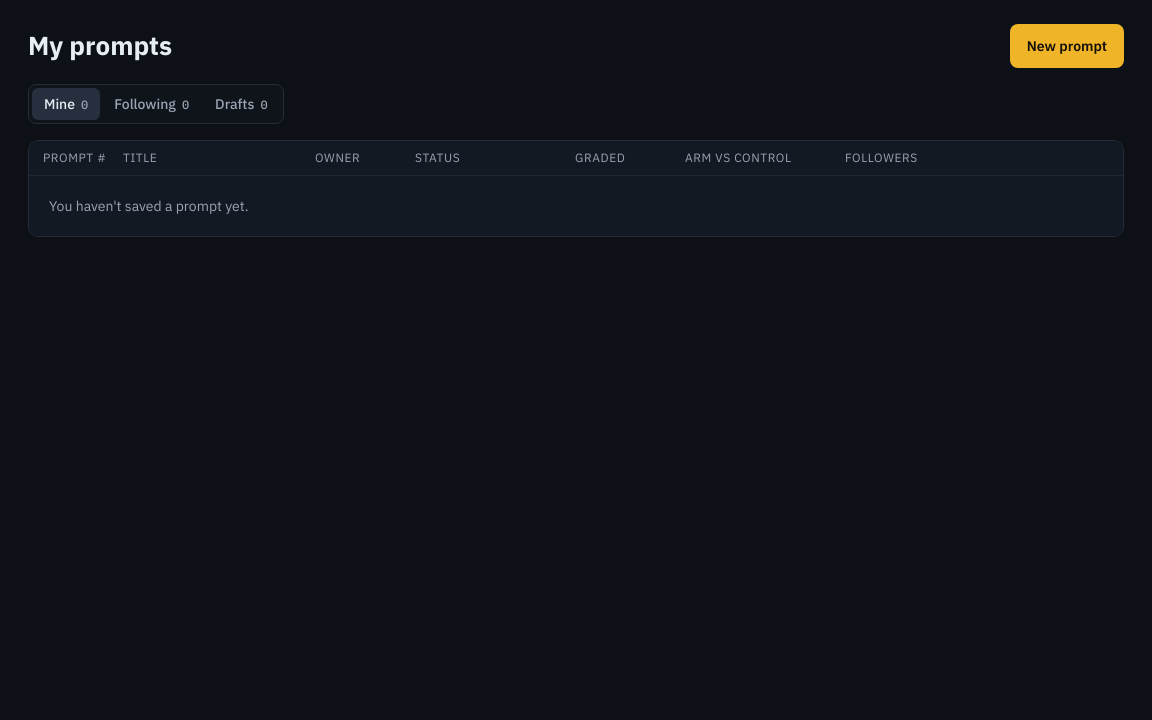
Test case: draft deletion › delete all removes every draft, and select-all ticks them
Step 1. Click the button "Drafts0" → coordinates (241, 104), box [203,88,280,120]
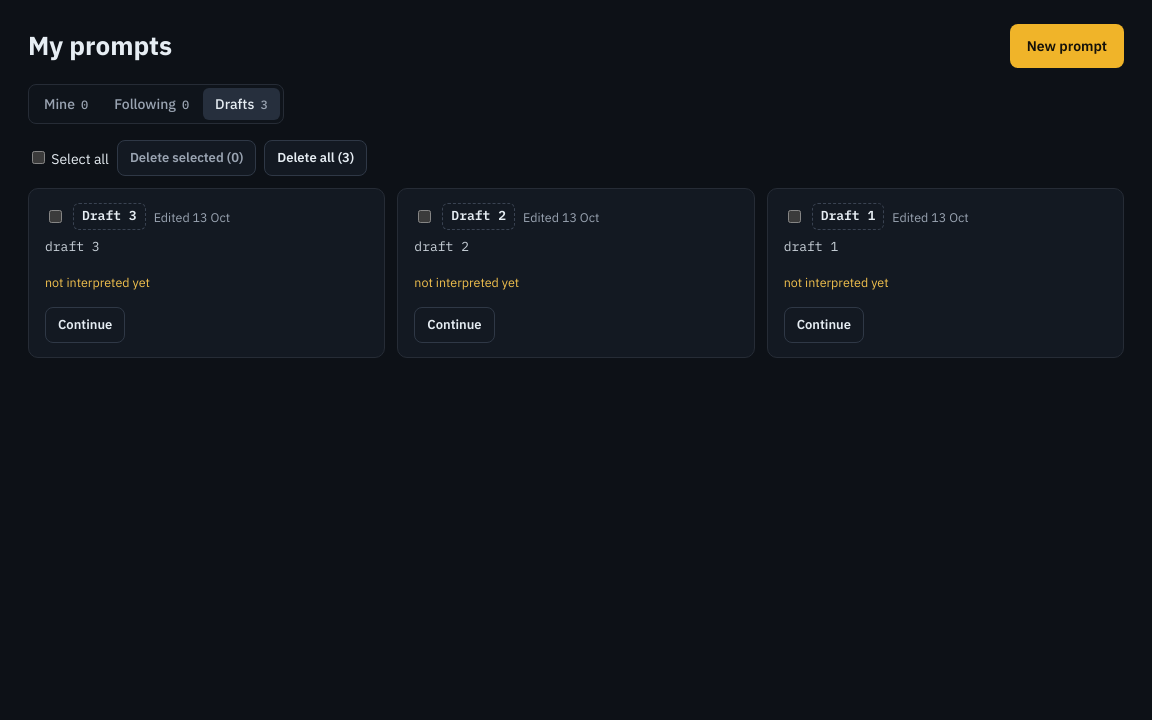
Expected: the checkbox named "select draft 3" is shown, [49,210,62,223]
Step 2. Click the checkbox named "select all drafts" → coordinates (38, 157), box [32,151,45,164]
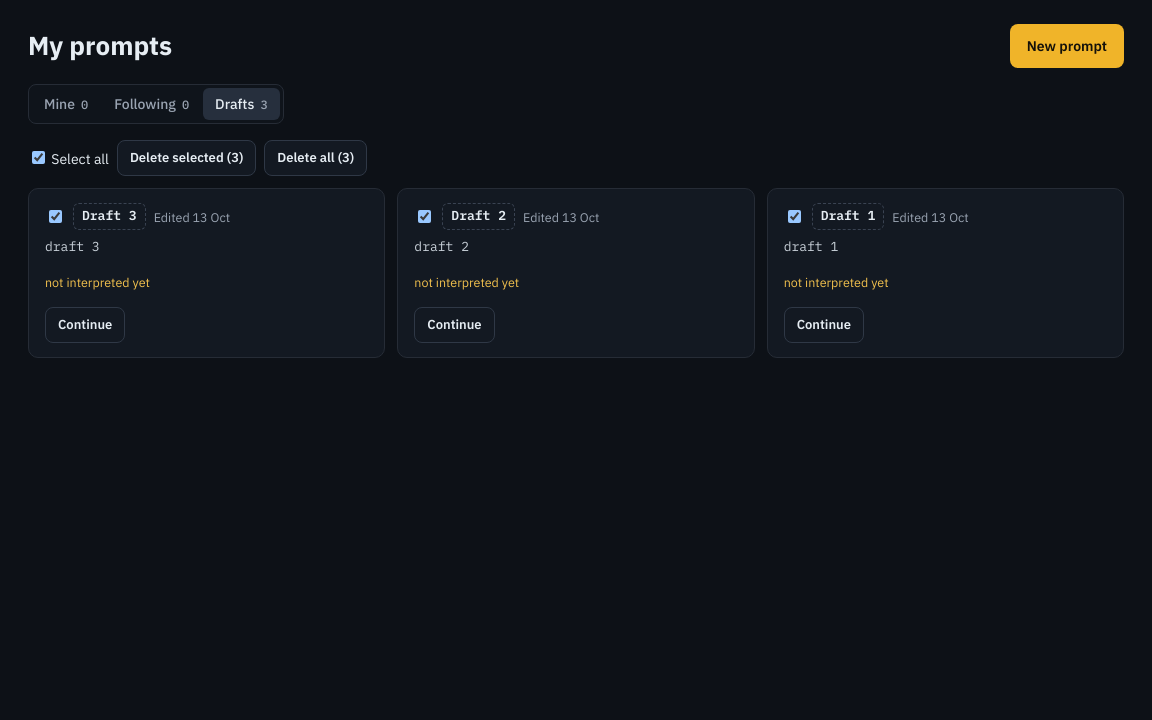
Expected: the button "Delete selected (3)" is enabled, [117,140,256,176]
Step 3. Click the button "Delete all (3)" → coordinates (316, 158), box [264,140,367,176]
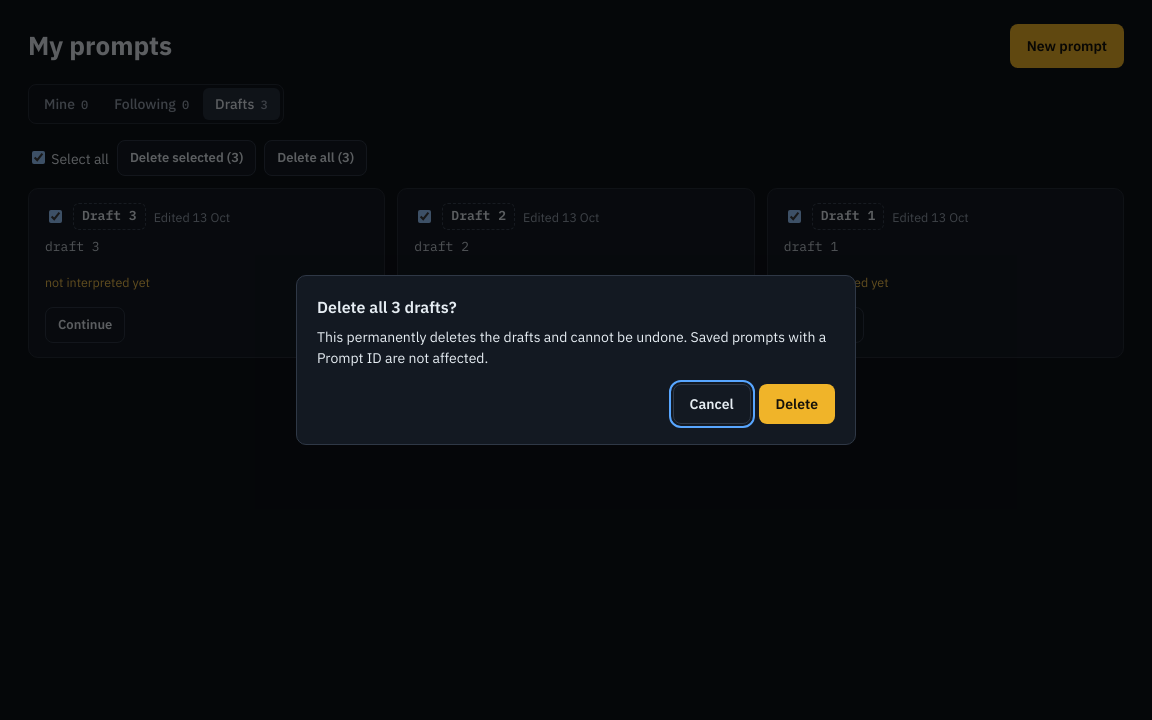
Step 4. Click the button "Delete" → coordinates (797, 404), box [759,384,835,424]
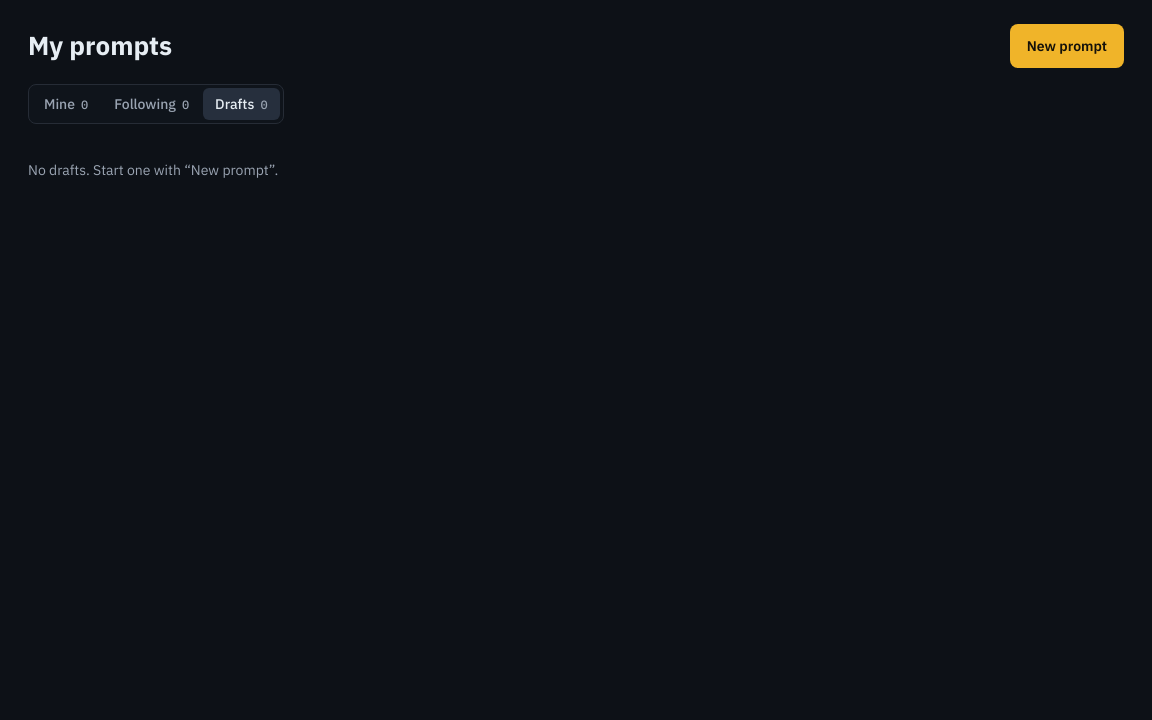
Expected: the text "No drafts. Start one with “New prompt”." is shown, [28,161,278,179]
